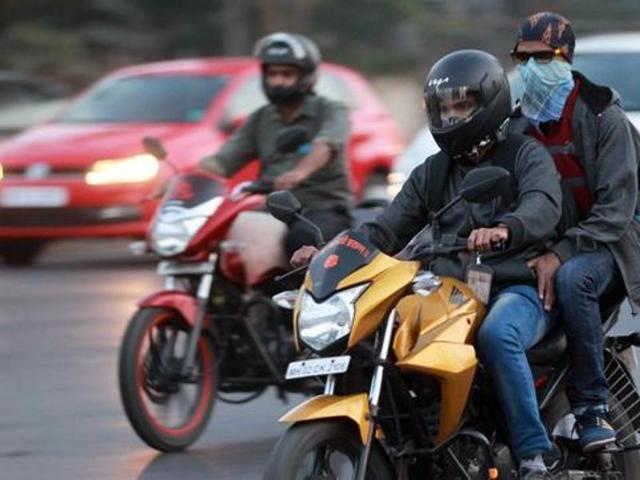helmet: (424, 46, 509, 154), (251, 36, 315, 99)
